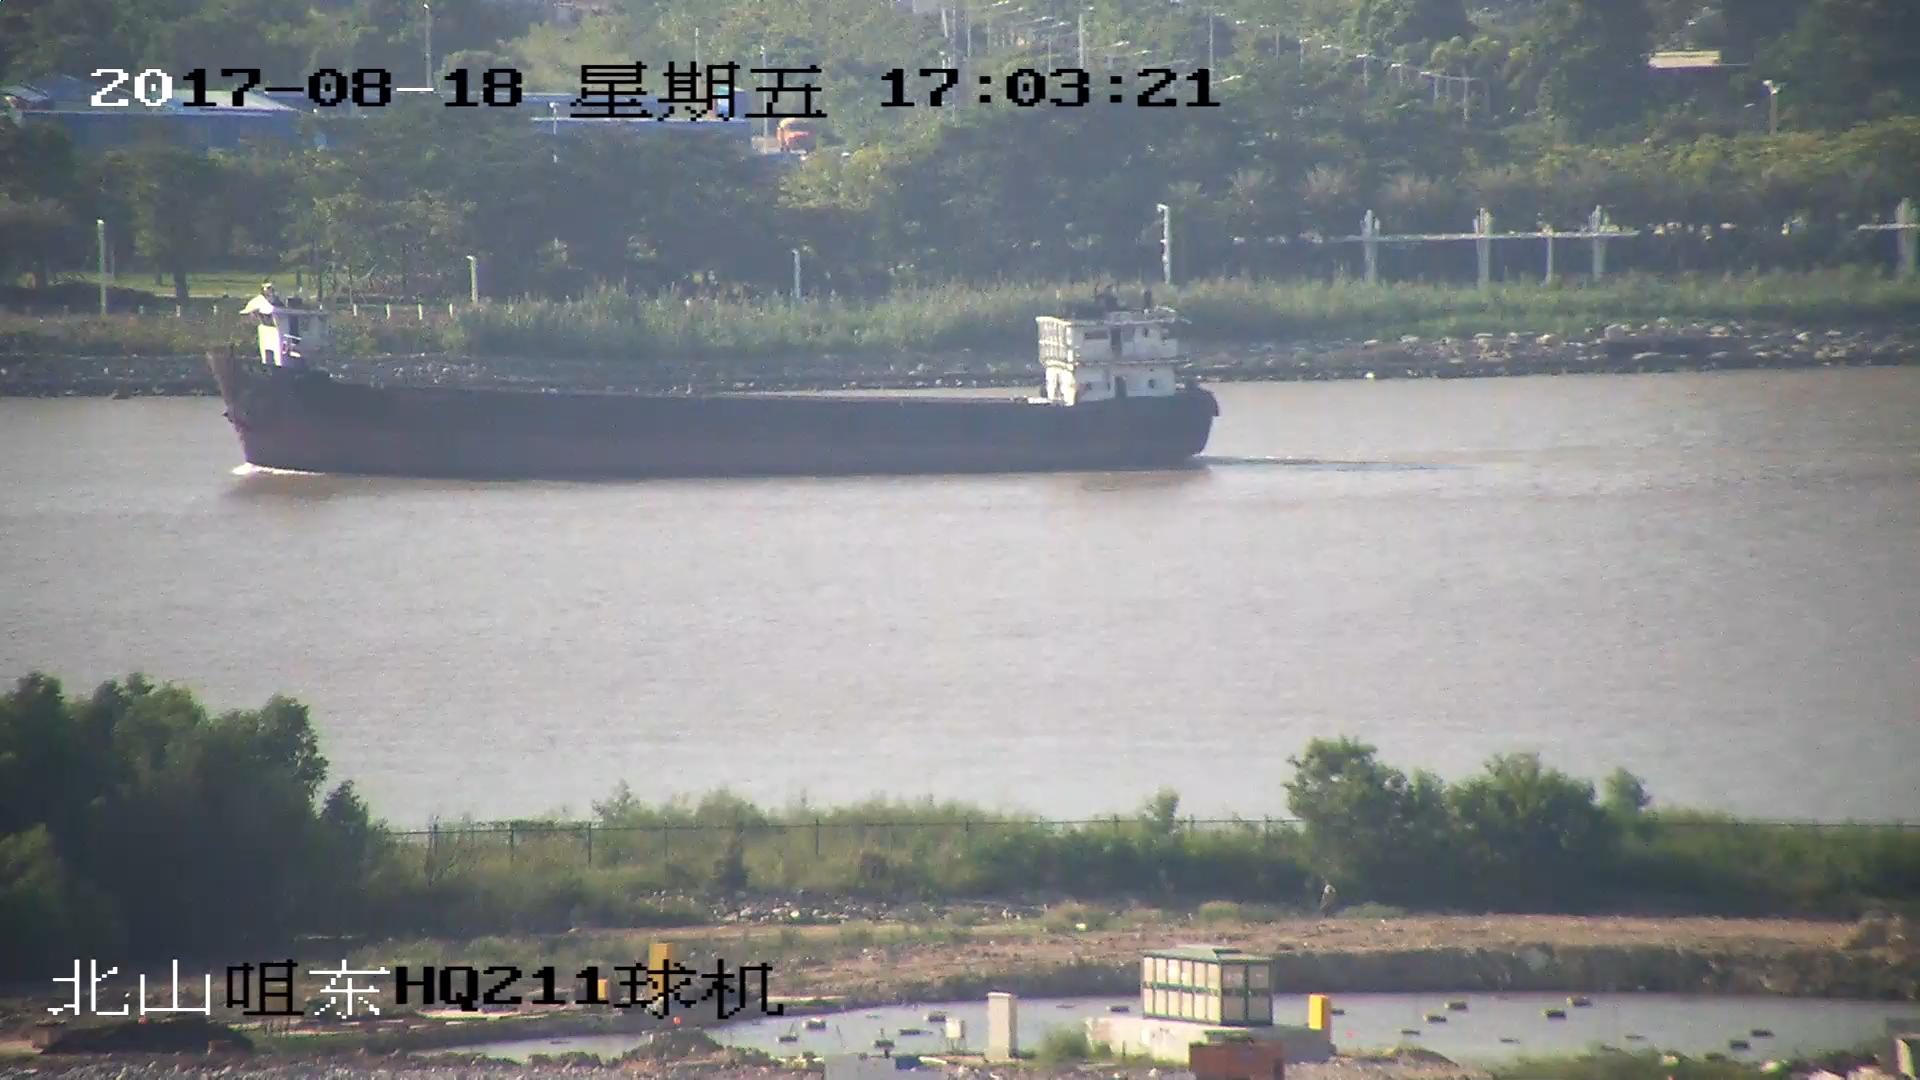general cargo ship: (200, 286, 1223, 473)
